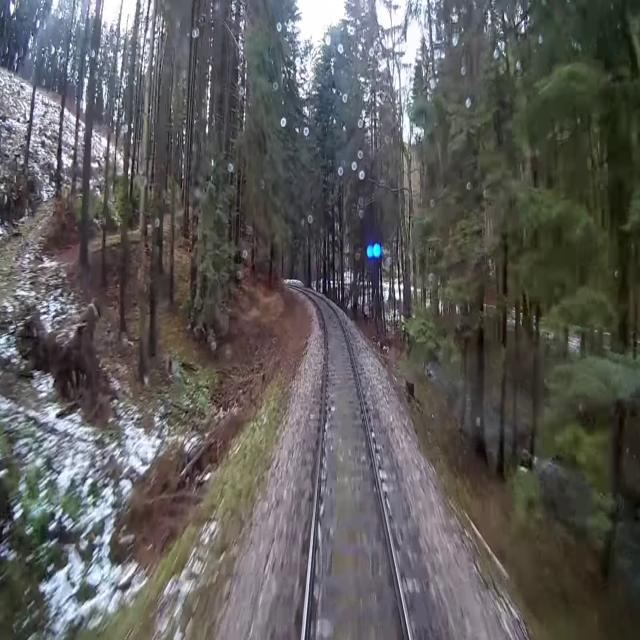rail-track: (308, 293, 407, 639)
